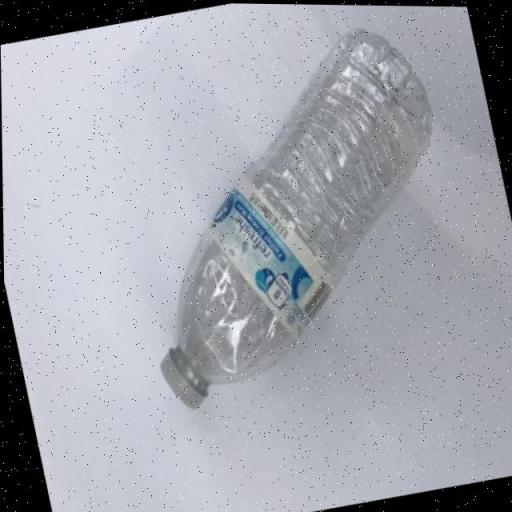plastic: (96, 10, 484, 422)
